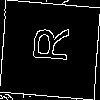R: (24, 24, 70, 64)
